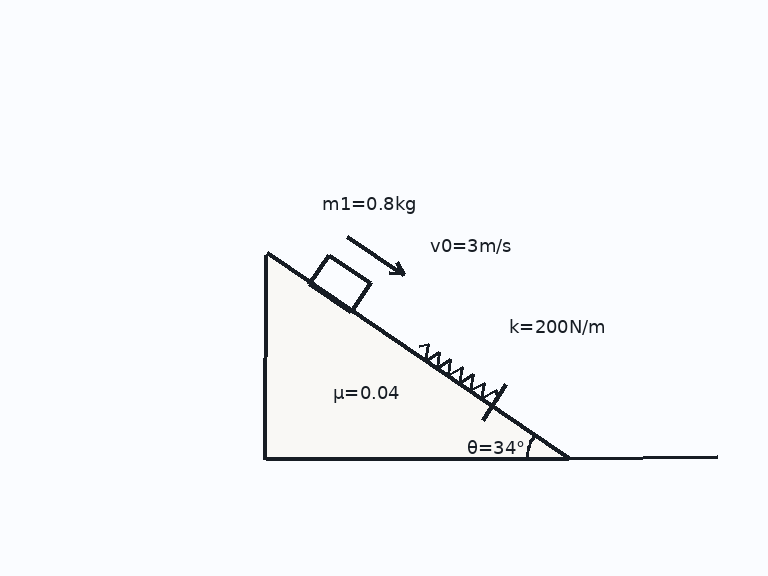block: (307, 253, 372, 313)
ramp: (263, 252, 569, 460)
spring: (416, 343, 499, 402)
